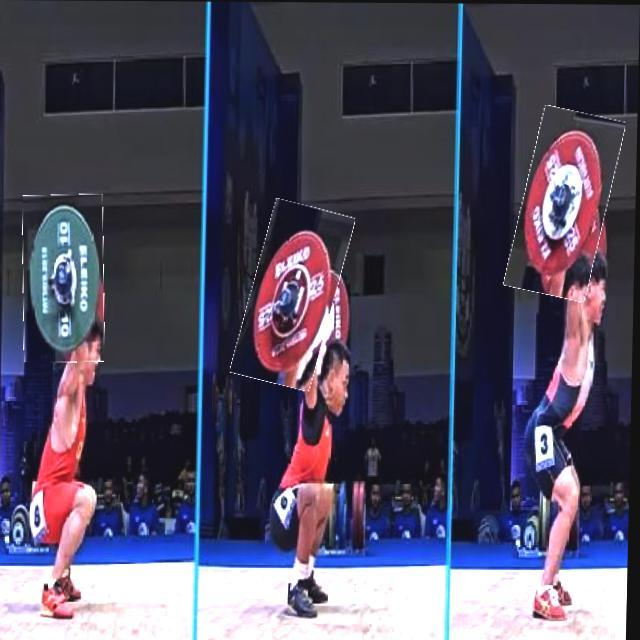barbell: (514, 109, 618, 300), (242, 202, 348, 388), (23, 195, 109, 363)
